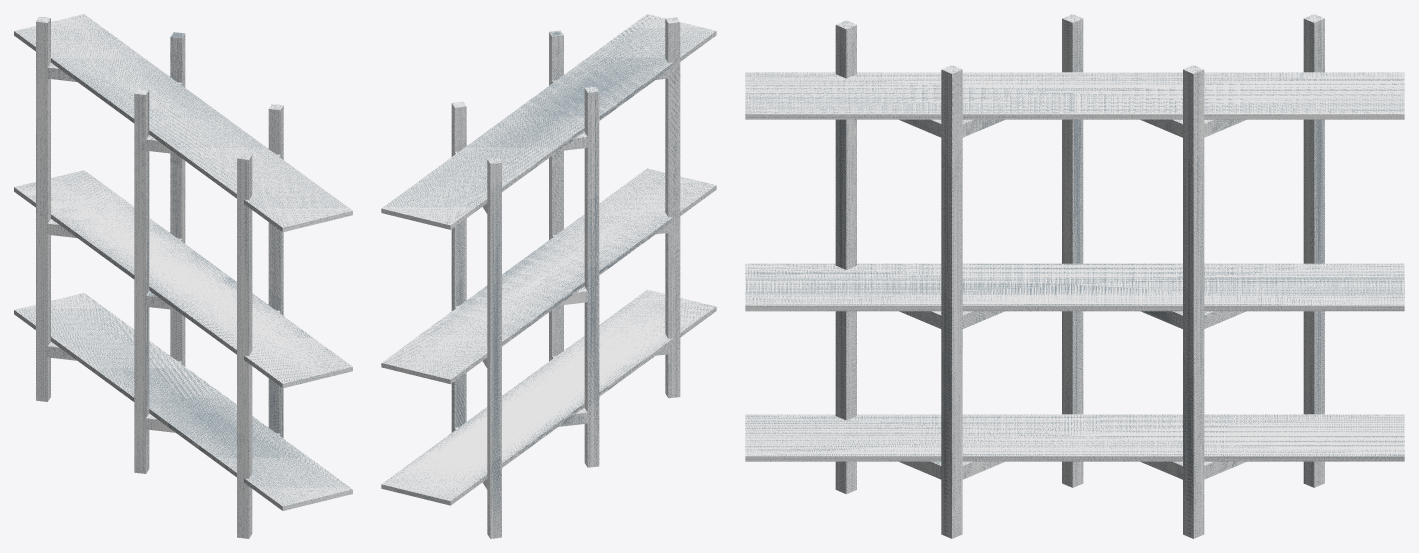
File: cloth.dae
3 views of the same model, side by side, from view 1: azimuth 30°, elevation 25°; view 2: azimuth 150°, elevation 25°; view 3: azimuth 270°, elevation 25° (orthographic). The views are drawn at different scales.
Parts seen in each view (by area): view 1: group_12, group_14, group_13, group_2, group_0, group_4, group_1, group_3; view 2: group_12, group_14, group_13, group_2, group_0, group_4, group_3, group_1; view 3: group_13, group_14, group_12, group_1, group_3, group_0, group_2, group_4.
Boxes of the visible parts, x1=… form: group_12: x1=14, y1=14, x2=352, y2=232; group_14: x1=14, y1=293, x2=352, y2=510; group_13: x1=14, y1=170, x2=352, y2=388; group_2: x1=134, y1=88, x2=149, y2=473; group_0: x1=237, y1=153, x2=252, y2=538; group_4: x1=36, y1=16, x2=50, y2=401; group_1: x1=268, y1=104, x2=283, y2=438; group_3: x1=170, y1=32, x2=185, y2=366; group_12: x1=381, y1=14, x2=716, y2=229; group_14: x1=381, y1=289, x2=716, y2=505; group_13: x1=381, y1=168, x2=716, y2=384; group_2: x1=584, y1=86, x2=599, y2=467; group_0: x1=665, y1=17, x2=680, y2=398; group_4: x1=487, y1=158, x2=501, y2=538; group_3: x1=451, y1=101, x2=466, y2=432; group_1: x1=549, y1=30, x2=563, y2=361; group_13: x1=745, y1=263, x2=1404, y2=311; group_14: x1=745, y1=414, x2=1404, y2=461; group_12: x1=745, y1=72, x2=1404, y2=119; group_1: x1=941, y1=65, x2=962, y2=538; group_3: x1=1183, y1=65, x2=1204, y2=538; group_0: x1=835, y1=20, x2=856, y2=494; group_2: x1=1062, y1=14, x2=1083, y2=487; group_4: x1=1303, y1=14, x2=1324, y2=487.
Bounding box in the file's own units: 18.53 × 86.04 × 66.93.
